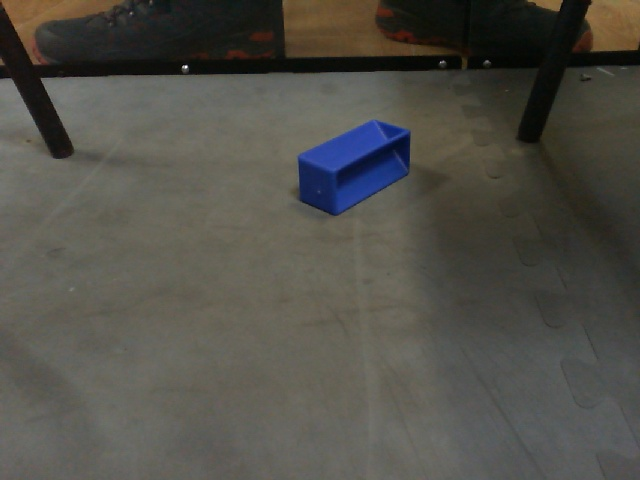BlueSample: (293, 117, 417, 215)
